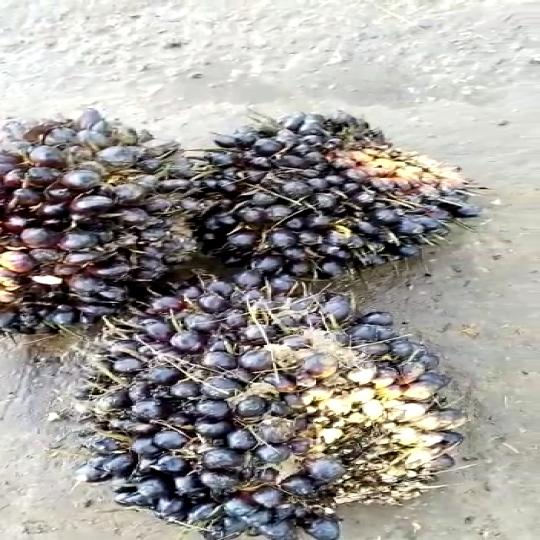mentah: (84, 264, 495, 536), (192, 103, 490, 294), (0, 110, 211, 345)
